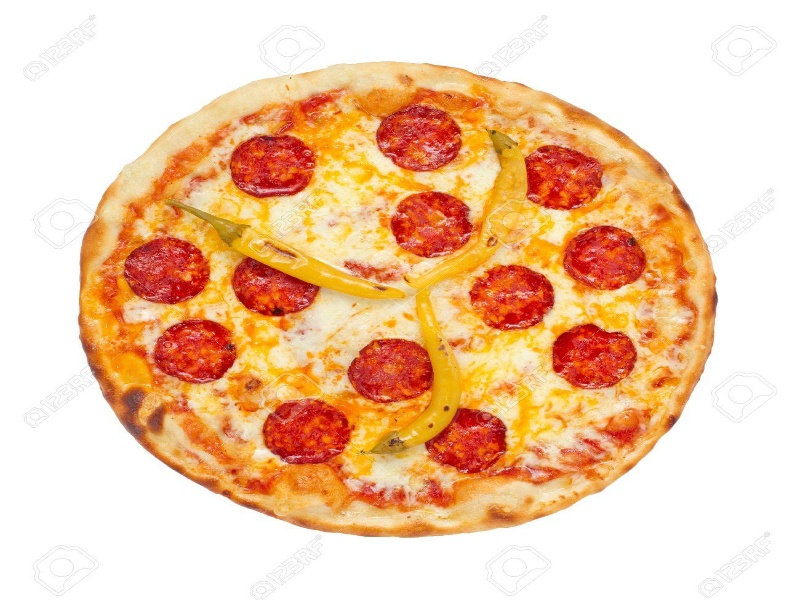pepperonis: (516, 137, 607, 216), (387, 186, 479, 262), (469, 260, 557, 337), (119, 237, 212, 308), (262, 393, 351, 467), (344, 331, 431, 406), (374, 106, 469, 172), (565, 223, 650, 295), (229, 132, 318, 200), (147, 318, 244, 380), (559, 327, 642, 393), (435, 409, 509, 481)
